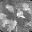people: (5, 4, 14, 14), (16, 9, 25, 19), (8, 21, 17, 31), (2, 19, 10, 27), (0, 13, 8, 20)
